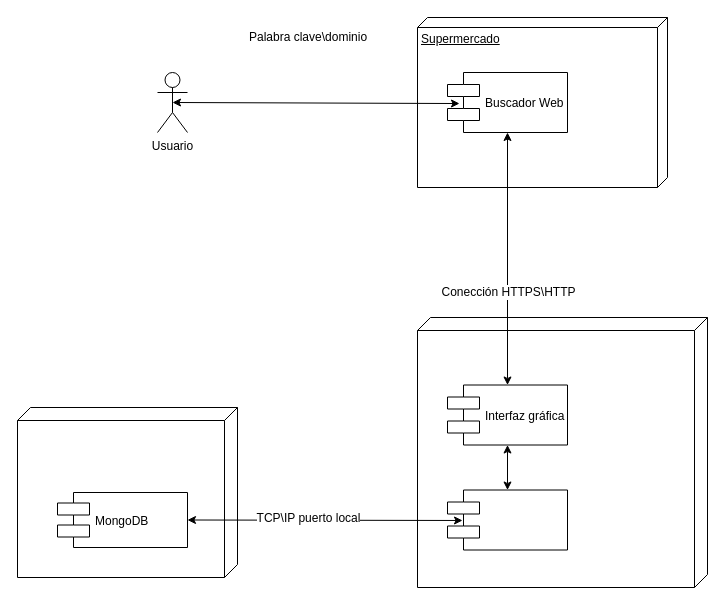
Some shapes in this 725 by 605 pixel diagram are drawn without their labels. The box of each missing label's shape, as (x1, y1, x2, y2) in pixels:
Api: (416, 316, 708, 588)
Database server: (16, 406, 238, 578)
Interfaz Bases de datos: (446, 489, 568, 550)
